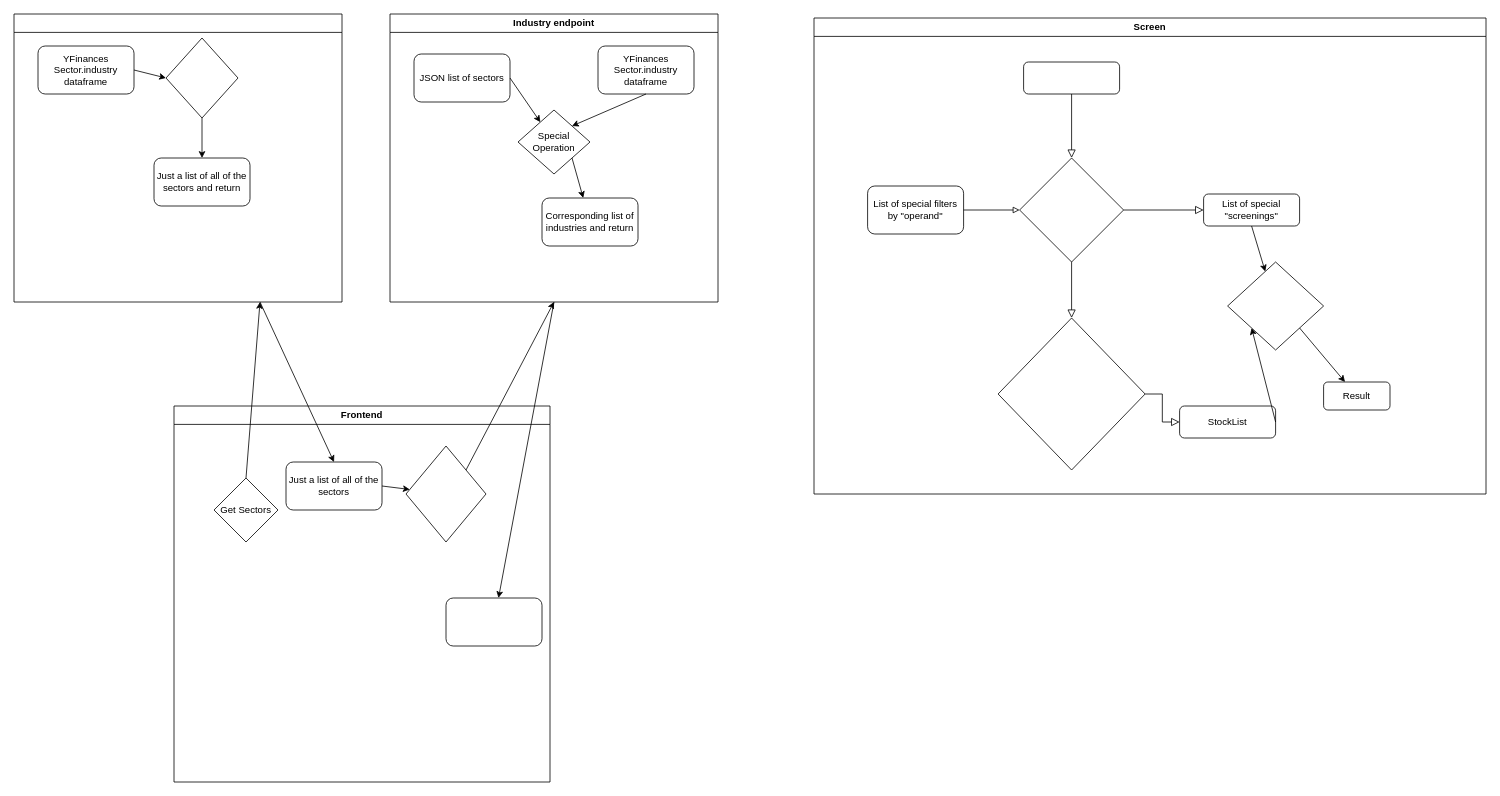
Image size: 1500x796. Some labels were removed from this diagram. Here are the shapes that lost their labels. From the top down, the box of each, then its label:
(165, 37, 238, 118): Just the keys
(1023, 61, 1120, 94): JSON DATA
(13, 13, 342, 302): Sector endpoint
(1019, 157, 1124, 262): filters list of "screenings" to not include the special ones
(1227, 261, 1324, 350): Apply Special Screenings
(997, 317, 1145, 470): Use EquityQueries with ScreenerConstructor to create query and return stock list
(405, 445, 486, 542): User selects list of sectors
(445, 597, 542, 646): New list of all of the industries in the given sectors
